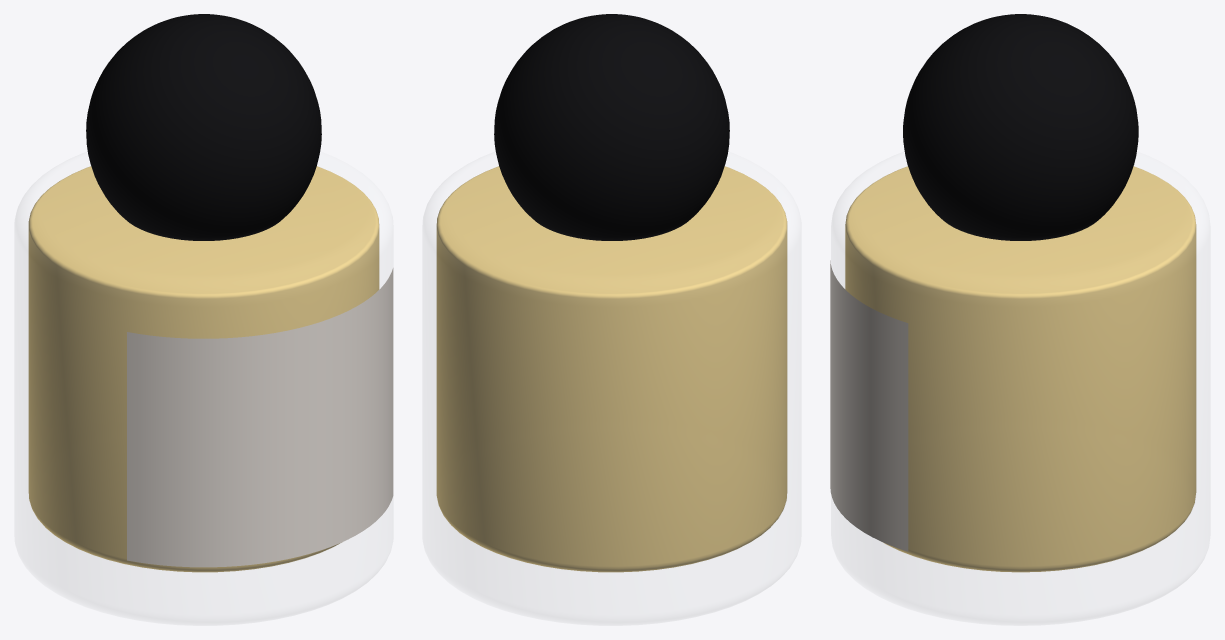
The model's file is roadster_mobile.glb.
3 renders of one model, left to right at view 1: azimuth 30°, elevation 25°; view 2: azimuth 150°, elevation 25°; view 3: azimuth 270°, elevation 25°, orthographic.
Parts seen in each view (by area): view 1: xelle_fragrance_liquid, xelle_front_label, xelle_spherical_black_cap; view 2: xelle_fragrance_liquid, xelle_spherical_black_cap; view 3: xelle_fragrance_liquid, xelle_spherical_black_cap, xelle_front_label.
Boxes of the visible parts, x1,y1,x2,y2 form: xelle_fragrance_liquid: (28, 166, 379, 572); xelle_front_label: (127, 268, 393, 567); xelle_spherical_black_cap: (86, 14, 321, 240); xelle_fragrance_liquid: (436, 166, 787, 572); xelle_spherical_black_cap: (494, 14, 729, 240); xelle_fragrance_liquid: (845, 166, 1196, 572); xelle_spherical_black_cap: (903, 14, 1138, 240); xelle_front_label: (830, 260, 908, 551).
Size of the model in its own units: 2.35 by 3.6 by 2.35.
5 materials, 1 textured.
